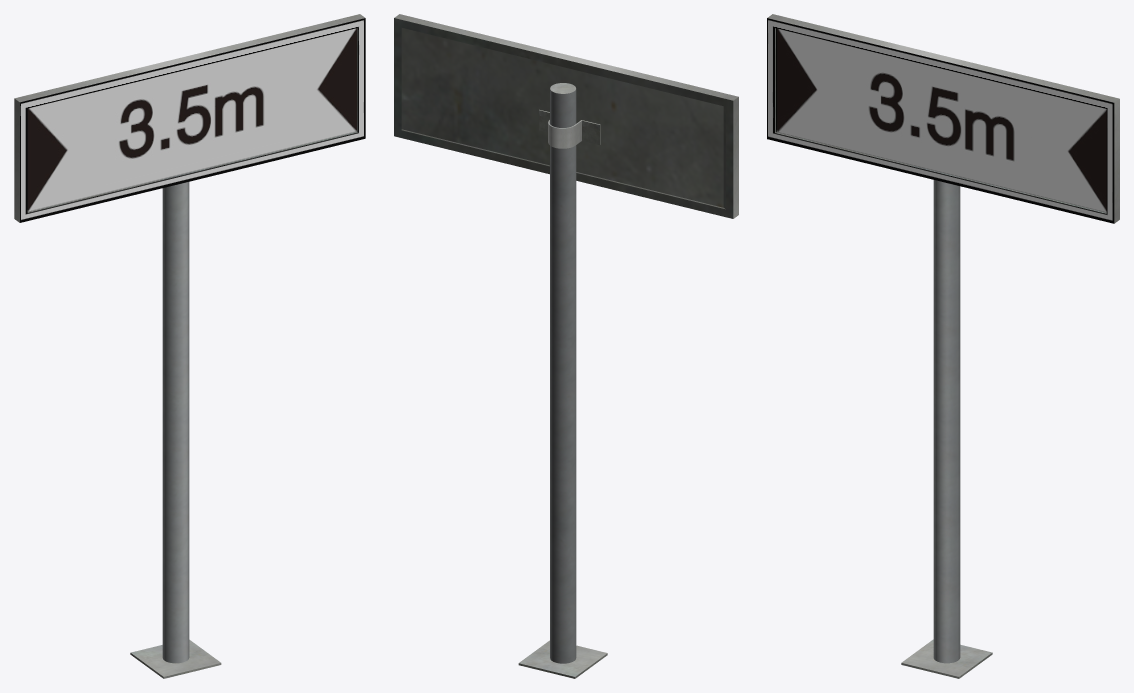
The picture shows the model from 3 angles, left to right: view 1: azimuth 30°, elevation 25°; view 2: azimuth 150°, elevation 25°; view 3: azimuth 330°, elevation 25°; orthographic projection. The views are drawn at different scales.
Parts seen in each view (by area): view 1: MainBuilding; view 2: MainBuilding; view 3: MainBuilding.
Part boxes in pixels (x1,y1,x2,y2): MainBuilding: [14, 14, 365, 678]; MainBuilding: [394, 14, 738, 678]; MainBuilding: [767, 14, 1119, 678].
Size of the model in its own units: 0.9 by 1.51 by 0.15.
1 material, 1 textured.
